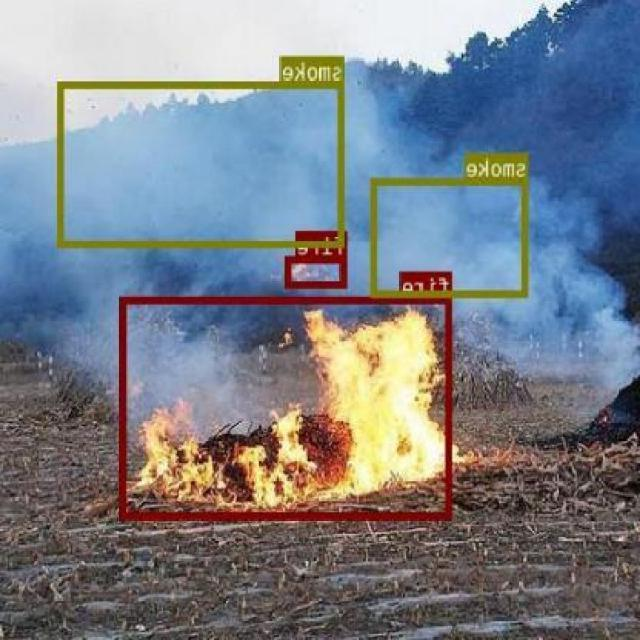Fire: (121, 296, 452, 518), (286, 255, 348, 288)
Smoke: (59, 80, 346, 246), (373, 178, 529, 294)
